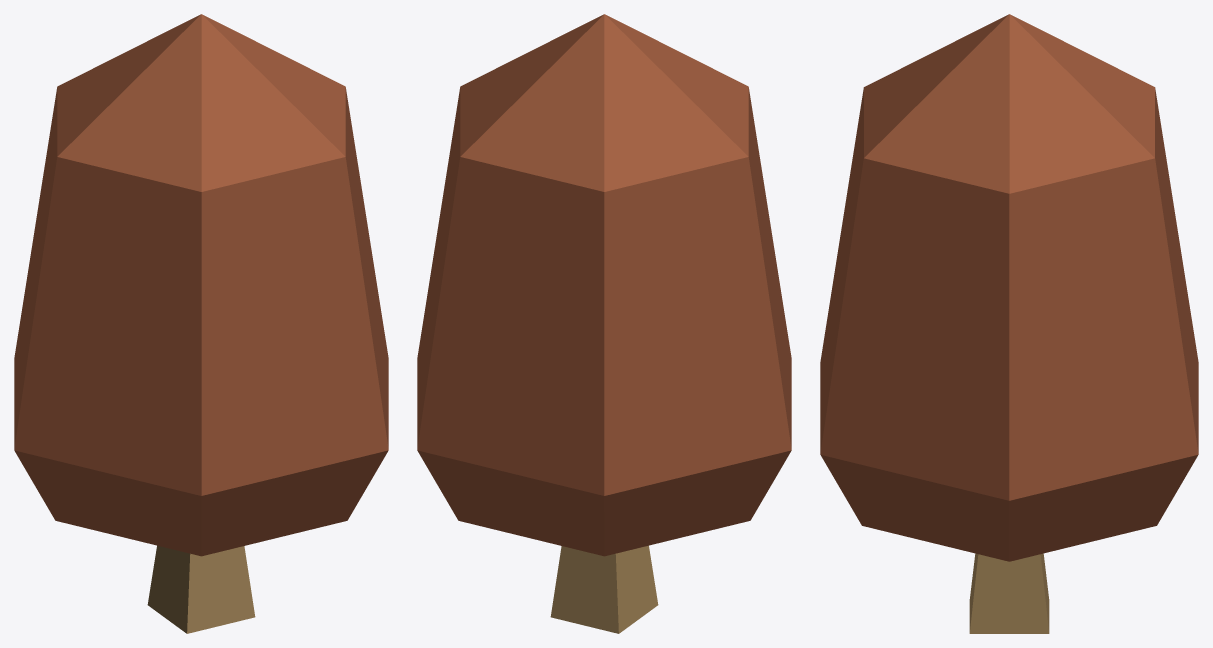
Rendered from Large_Oak_Fall_01.obj.
The picture shows the model from 3 angles, left to right: view 1: azimuth 30°, elevation 25°; view 2: azimuth 150°, elevation 25°; view 3: azimuth 270°, elevation 25°; orthographic projection.
Visible parts, largest first — view 1: Mesh1_Large_Oak_Fall_Model; view 2: Mesh1_Large_Oak_Fall_Model; view 3: Mesh1_Large_Oak_Fall_Model.
Part boxes in pixels (x1=…): Mesh1_Large_Oak_Fall_Model: x1=14, y1=14, x2=388, y2=633; Mesh1_Large_Oak_Fall_Model: x1=417, y1=14, x2=791, y2=633; Mesh1_Large_Oak_Fall_Model: x1=820, y1=14, x2=1198, y2=633.
Bounding box in the file's own units: 3.02 × 4.6 × 2.62.
